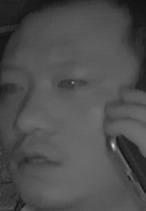eye: (57, 73, 90, 94), (2, 78, 26, 95)
mouth: (11, 141, 65, 175)
